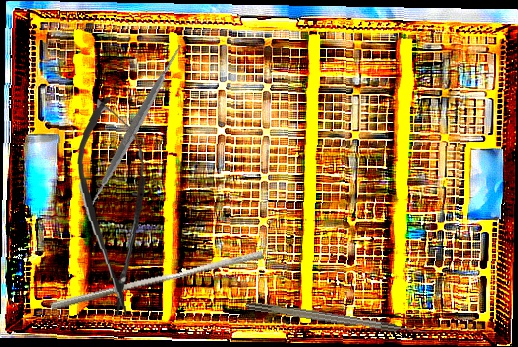Hook Surgical: (244, 300, 431, 338)
Micro Scissor: (72, 94, 157, 318)
Pusher: (49, 242, 265, 319)
Spatula Surgical: (47, 42, 221, 217)
